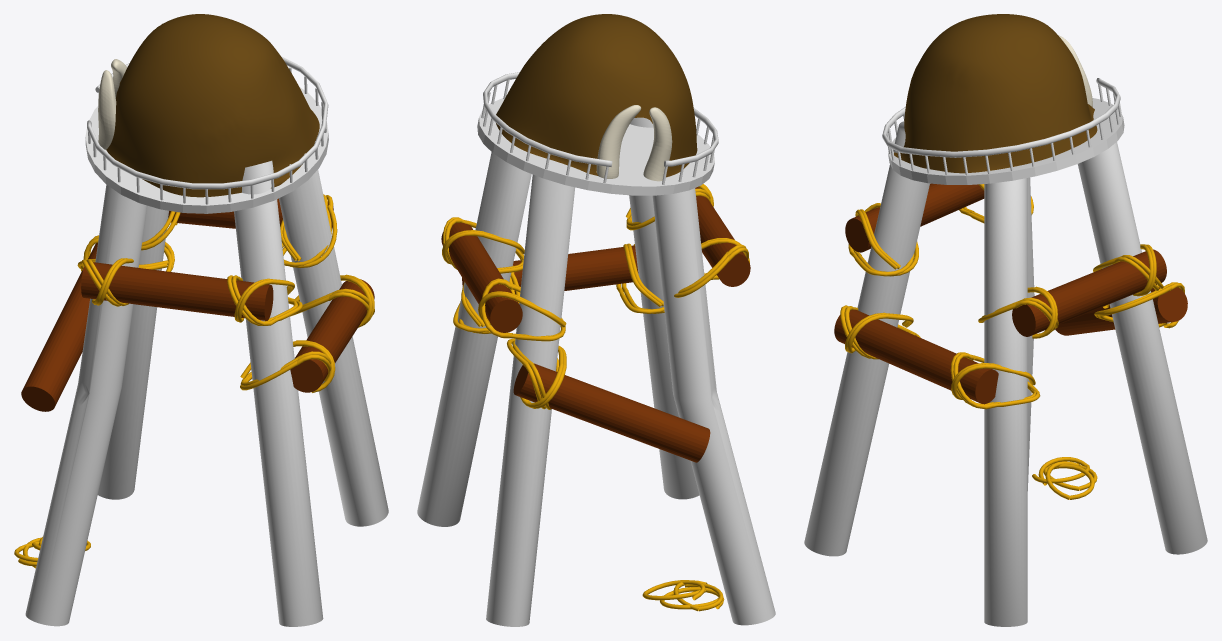
Rendered from woodTower_broken1.fbx.
The picture shows the model from 3 angles, left to right: view 1: azimuth 30°, elevation 25°; view 2: azimuth 150°, elevation 25°; view 3: azimuth 270°, elevation 25°; orthographic projection. The views are drawn at different scales.
Parts seen in each view (by area): view 1: WoodPillars, Hide, Log3, BrokenLog, WoodPlatforn, BezierCurve; view 2: WoodPillars, Hide, Log3, BrokenLog, WoodPlatforn, BezierCurve; view 3: WoodPillars, Hide, Log3, BrokenLog, WoodPlatforn, BezierCurve.
Boxes of the visible parts, left/top/right/bottom form: WoodPillars: left=25, top=160, right=388, bottom=626; Hide: left=98, top=14, right=319, bottom=197; Log3: left=77, top=194, right=374, bottom=392; BrokenLog: left=14, top=235, right=174, bottom=568; WoodPlatforn: left=85, top=87, right=328, bottom=213; BezierCurve: left=87, top=56, right=328, bottom=204; WoodPillars: left=417, top=117, right=775, bottom=626; Hide: left=496, top=14, right=697, bottom=181; Log3: left=441, top=184, right=750, bottom=341; BrokenLog: left=507, top=338, right=724, bottom=611; WoodPlatforn: left=477, top=98, right=714, bottom=195; BezierCurve: left=481, top=72, right=718, bottom=184; WoodPillars: left=804, top=121, right=1207, bottom=626; Hide: left=894, top=14, right=1097, bottom=173; Log3: left=834, top=183, right=1166, bottom=409; BrokenLog: left=1032, top=282, right=1187, bottom=499; WoodPlatforn: left=888, top=98, right=1124, bottom=184; BezierCurve: left=882, top=78, right=1121, bottom=175.
Size of the model in its own units: 905 by 1366 by 905.
